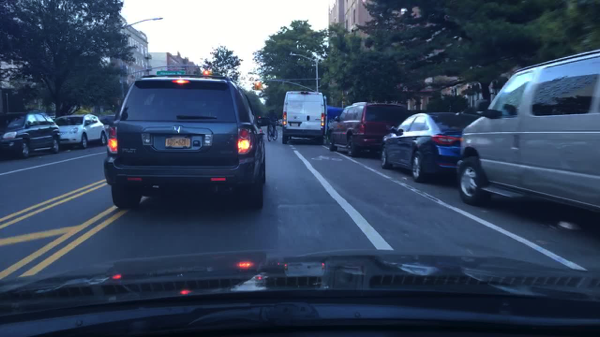bike: (266, 123, 277, 142)
car: (105, 74, 270, 212), (381, 114, 480, 182), (326, 102, 405, 159), (0, 110, 60, 159), (53, 114, 104, 148), (100, 115, 115, 133)
rider: (265, 110, 278, 137)
traffic light: (256, 83, 259, 90), (260, 83, 263, 90), (204, 71, 208, 76), (252, 83, 254, 90)
traffic sign: (157, 71, 185, 76)
truck: (454, 49, 599, 214), (280, 90, 324, 145)
